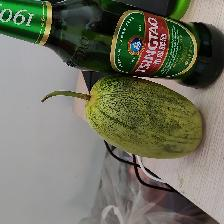gua: (81, 73, 208, 158)
